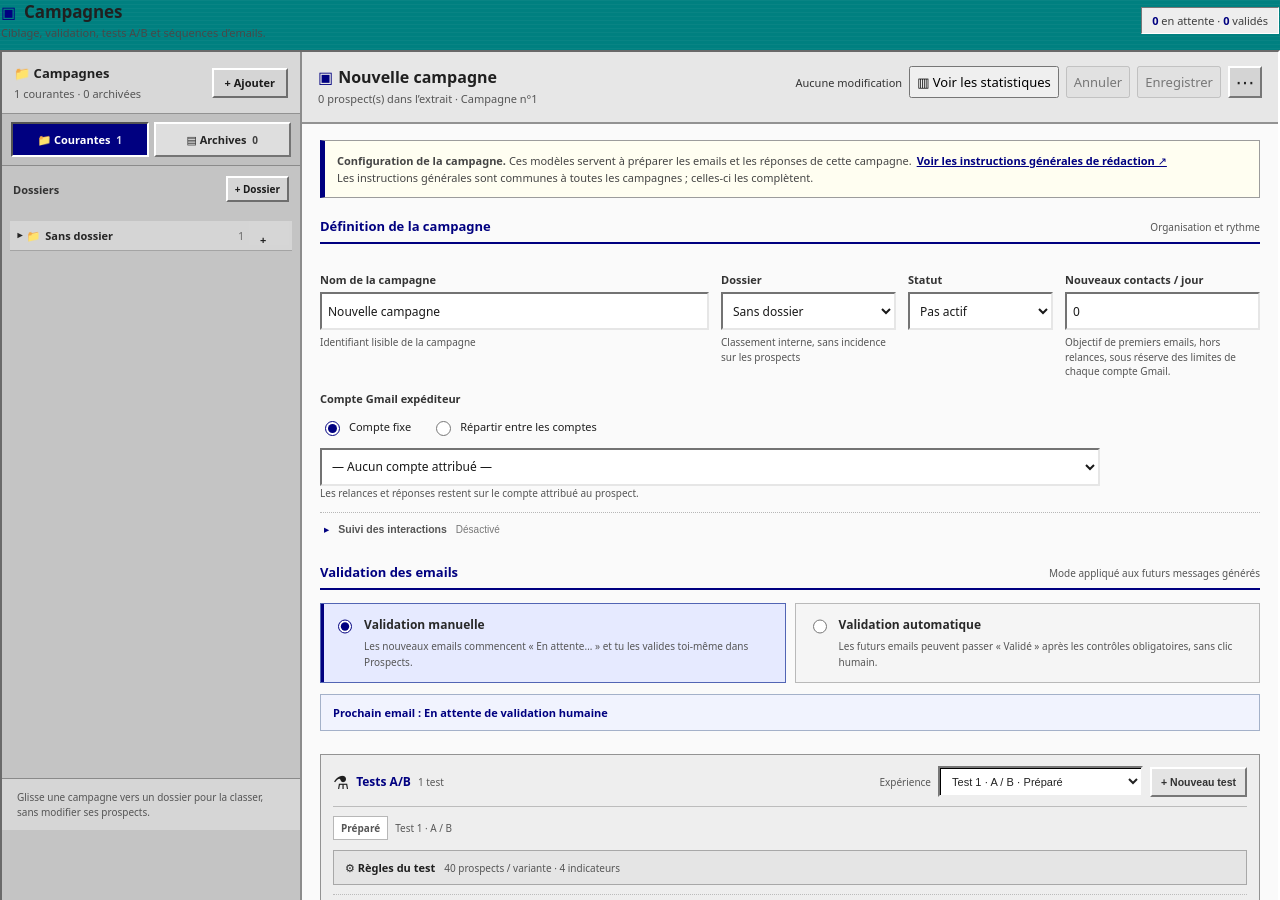
Test: CampaignsView V53 › shows discreet per-variant metrics in campaign statistics
This screenshot has width=1280, height=900.
Step 1. Click the button "▥ Voir les statistiques" → point(984, 82), box [909,66,1059,98]
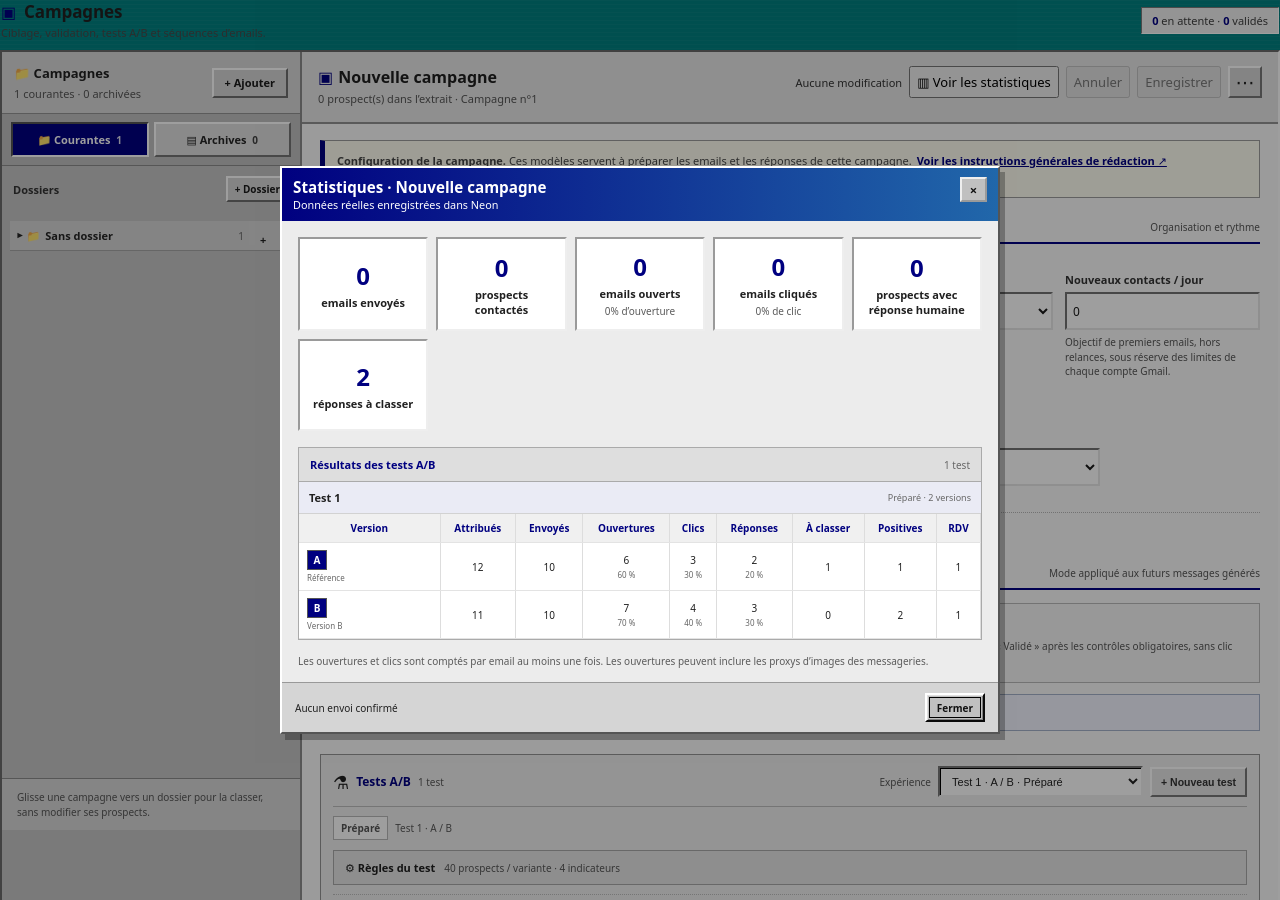
Result: the dialog "Statistiques · Nouvelle campagne" is shown at [280,166,1000,734]
Result: the text "Résultats des tests A/B" is shown at [310,457,436,472]
Result: the text "60 %" is shown at [617,569,635,580]
